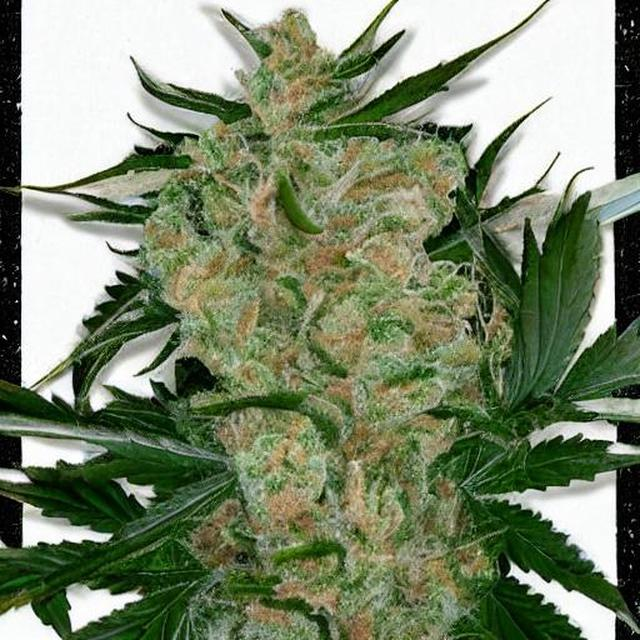Marijuana Plant: (43, 0, 601, 640)
